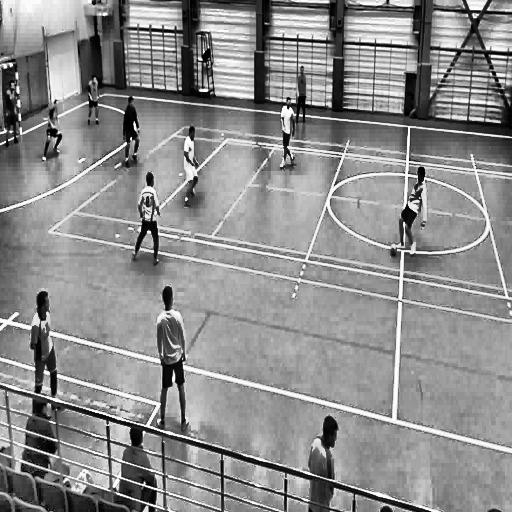ball: (389, 240, 398, 258)
